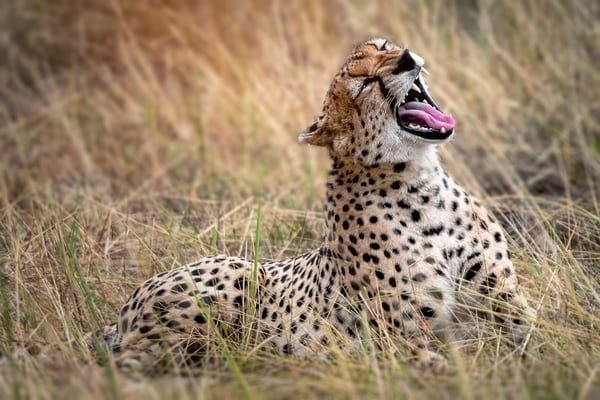cheetah: (293, 25, 470, 182)
